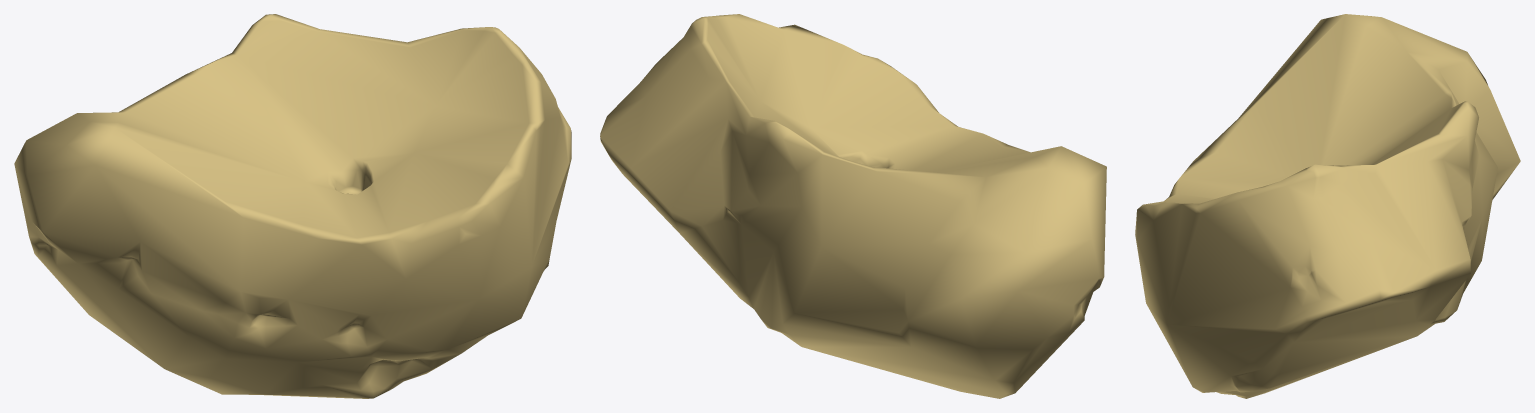
The picture shows the model from 3 angles, left to right: view 1: azimuth 30°, elevation 25°; view 2: azimuth 150°, elevation 25°; view 3: azimuth 270°, elevation 25°; orthographic projection. The views are drawn at different scales.
Parts seen in each view (by area): view 1: 左侧足舟骨; view 2: 左侧足舟骨; view 3: 左侧足舟骨.
Part boxes in pixels (x1,y1,x2,y2): 左侧足舟骨: (14,14,571,398); 左侧足舟骨: (600,14,1106,398); 左侧足舟骨: (1135,14,1520,398).
Size of the model in its own units: 0.0599 by 0.0354 by 0.0405.
